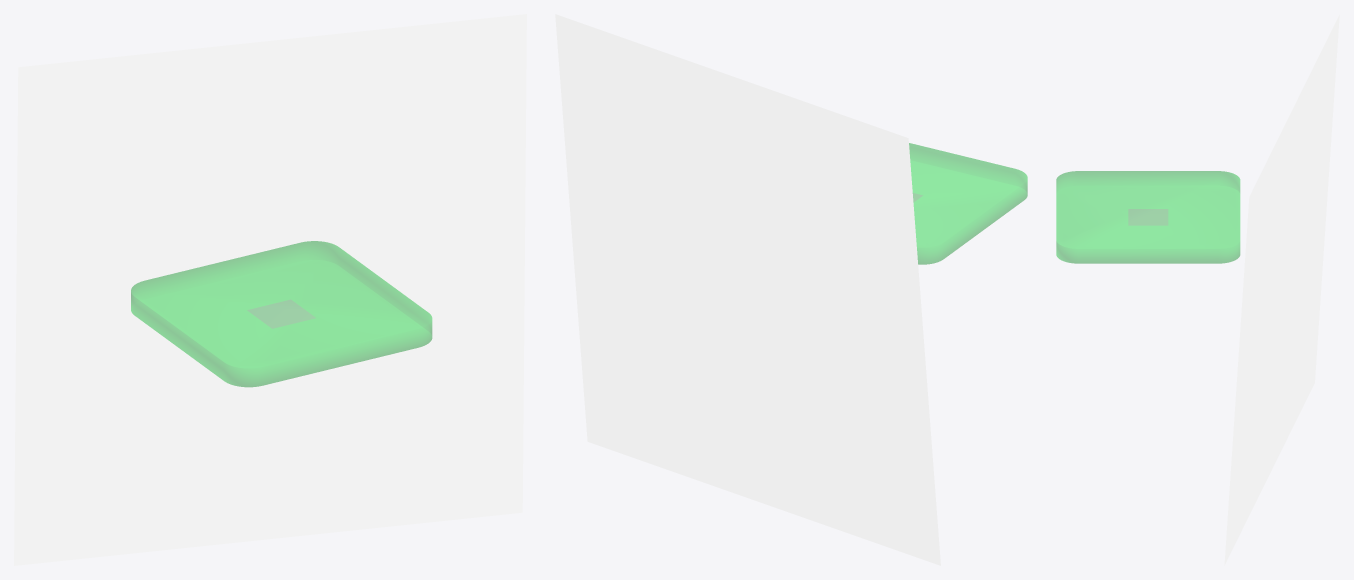
File: tend-hero.glb
The picture shows the model from 3 angles, left to right: view 1: azimuth 30°, elevation 25°; view 2: azimuth 150°, elevation 25°; view 3: azimuth 270°, elevation 25°; orthographic projection. The views are drawn at different scales.
Visible parts, largest first — view 1: Plane.001, Cube, Plane; view 2: Plane.001, Cube; view 3: Plane.001, Cube, Plane.
Part boxes in pixels (x1,y1,x2,y2): Plane.001: [14, 14, 526, 565]; Cube: [131, 241, 431, 386]; Plane: [247, 299, 315, 328]; Plane.001: [555, 14, 940, 565]; Cube: [909, 143, 1027, 264]; Plane.001: [1224, 15, 1339, 565]; Cube: [1056, 171, 1239, 263]; Plane: [1128, 209, 1168, 225].
Size of the model in its own units: 21.32 by 21.48 by 14.23.
